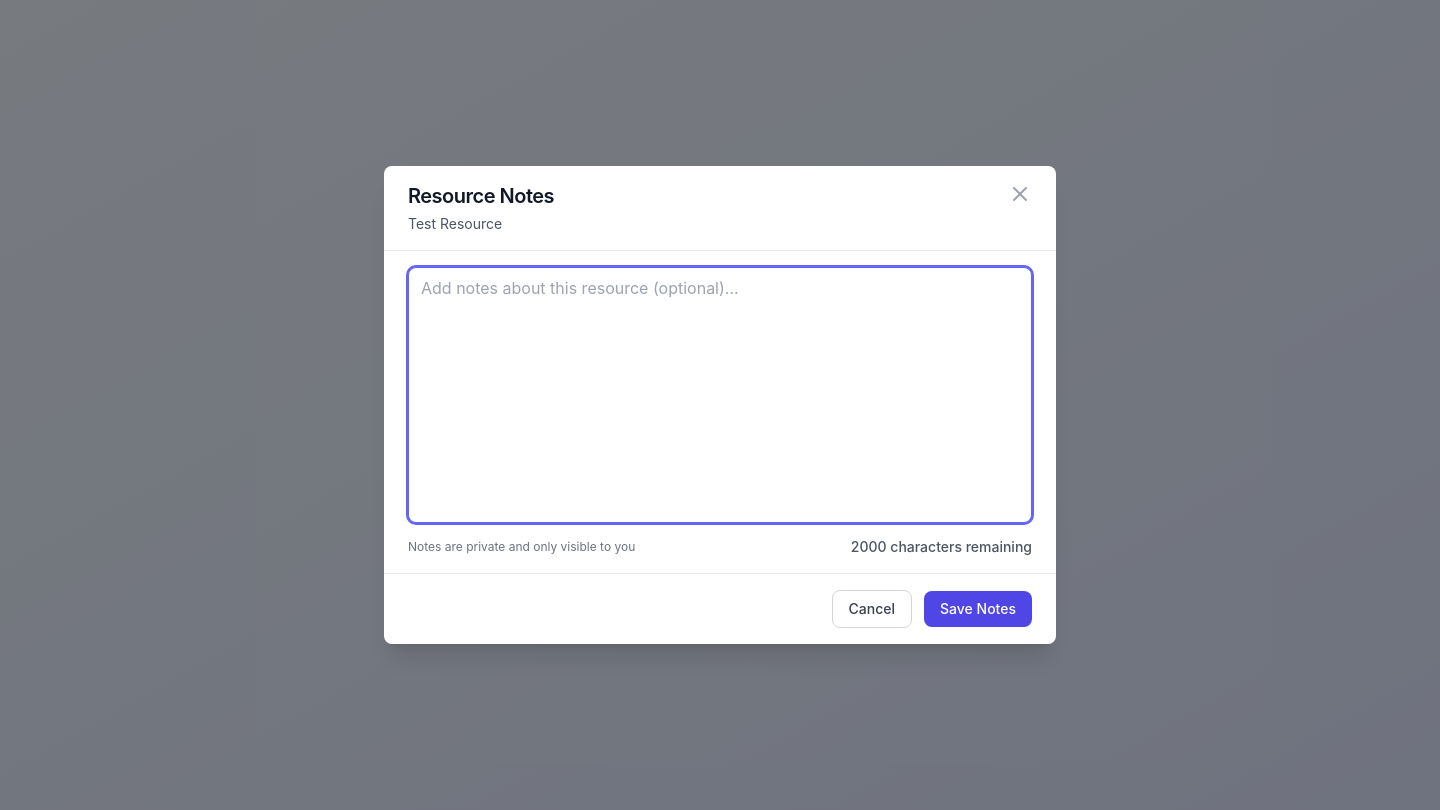
Test case: ResourceNotes › shows character counter
Type "Test note" into the text box with placeholder "Add notes about this resource (optional)..." at {"x": 720, "y": 395}, box [408,267,1032,523]
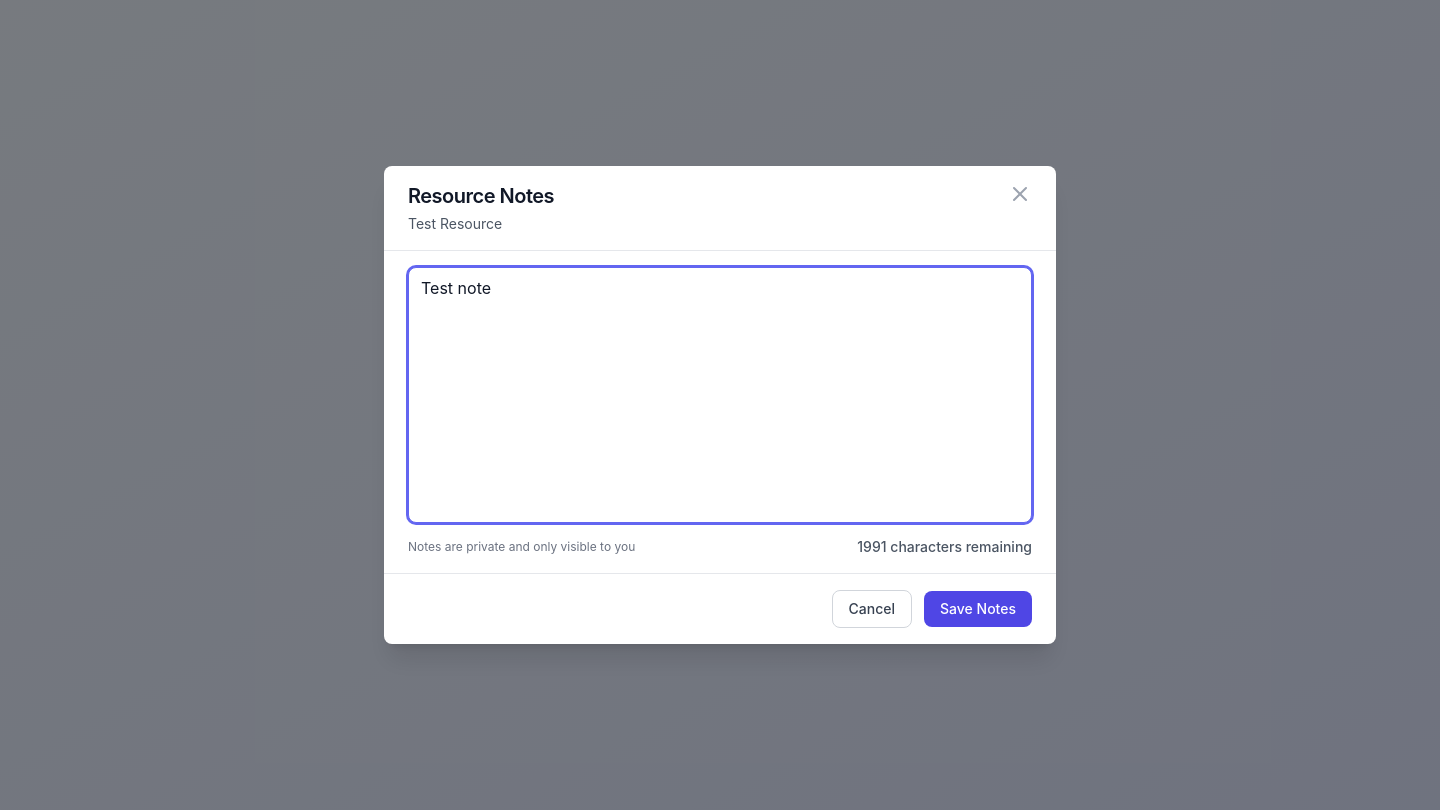
Now the text "1991 characters remaining" is shown, box [857,537,1032,557]
